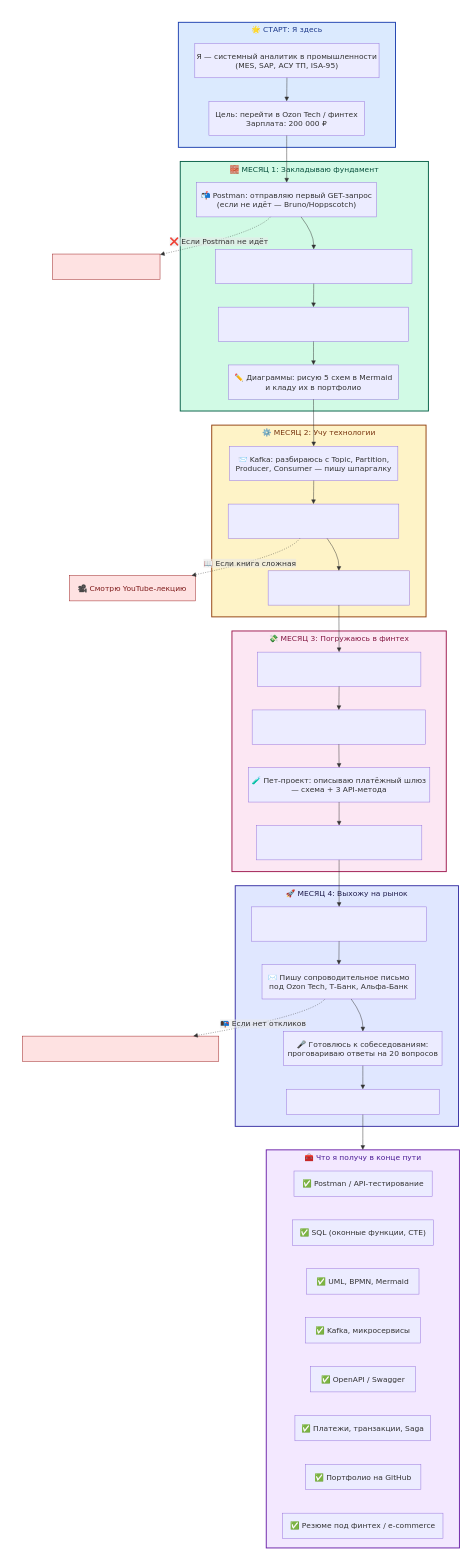
This 468x1556 diagram has some shape labels left out. Each missing label, with the centre of its shape:
"➕ Расширяю список: СберТех, Яндекс, ЮKassa" belongs at [120,1048].
"🏆 Получаю оффер на 170–200 тыс." belongs at [362,1102].
"🏗️ Микросервисы: читаю Ньюмена, рисую схему «Как устроен заказ в Ozon»" belongs at [313,521].
"💳 Платежи: эквайринг, процессинг, банк-эмитент — смотрю видео + читаю" belongs at [339,669].
"📄 OpenAPI: делаю свою первую спецификацию в Swagger Editor" belongs at [339,587].
"📄 Обновляю резюме: добавляю навыки, указываю портфолио, повышаю ЗП до 200" belongs at [339,923].
"📝 User Story: переписываю 3 рабочие задачи в формат «As a… I want… So that…»" belongs at [313,324].
"📦 Собираю портфолио: GitHub — диаграммы, SQL, OpenAPI, User Story" belongs at [339,842].
"🔁 Транзакции: ACID, Saga, компенсации — записываю 3 примера из жизни" belongs at [339,726].
"🔄 Bruno / Hoppscotch" belongs at [106,266].
"🧠 SQL: оконные функции, CTE, ROW_NUMBER() решаю 5 задач на LeetCode" belongs at [313,266].
